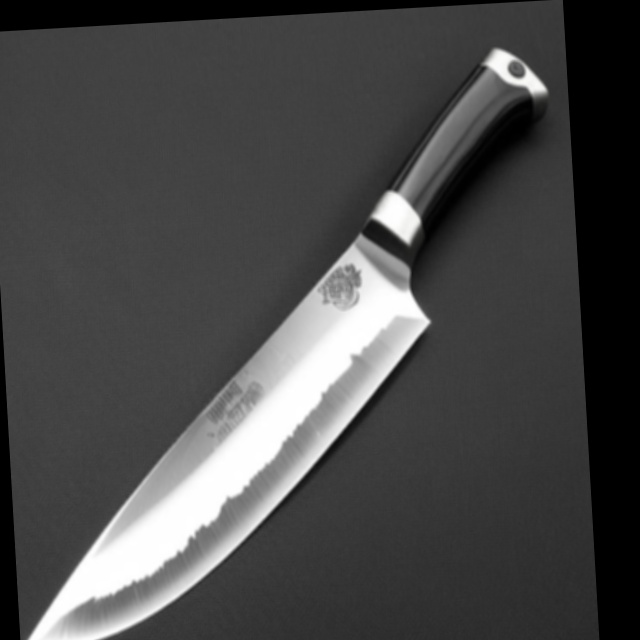Sharp-Object: (0, 36, 587, 640)
